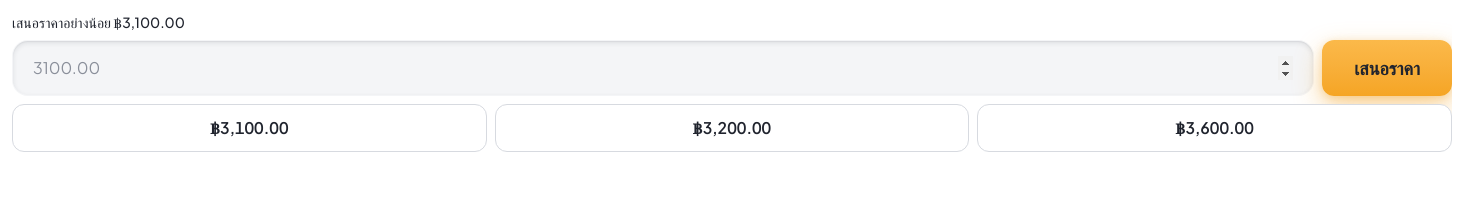
PlaceBidControl › placing a bid › sends the bid and confirms with the amount the API accepted
In the number field labelled "เสนอราคาอย่างน้อย ฿3,100.00": (663, 68) [33,56,1293,80], type "3100"
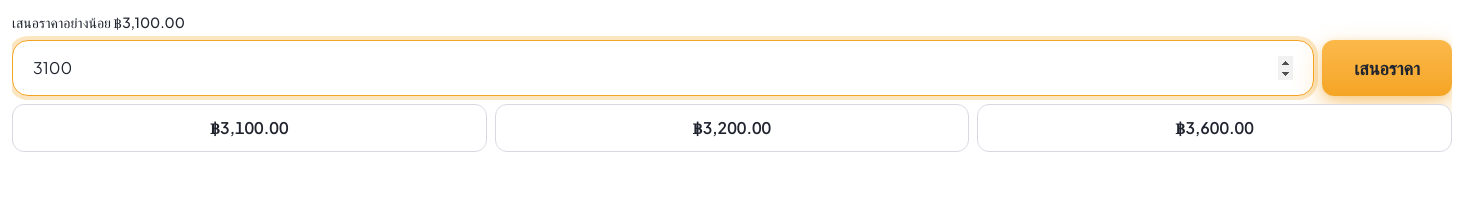
Click the button "เสนอราคา": (1387, 68) [1322,40,1452,96]
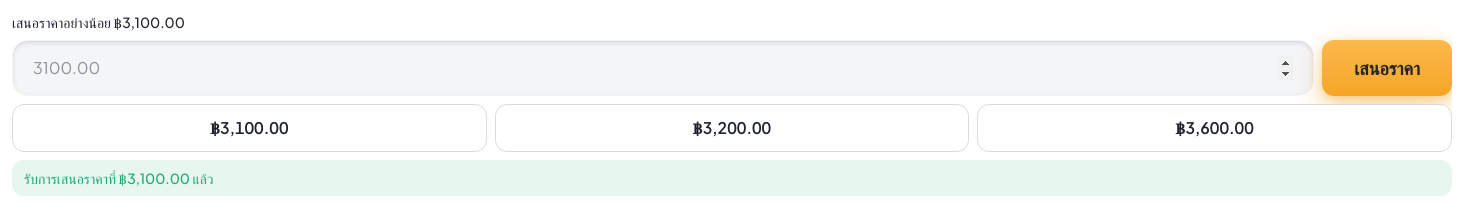
Now the text "รับการเสนอราคาที่ ฿3,100.00 แล้ว" is shown, box [12,160,1452,196]
Now the number field labelled "เสนอราคาอย่างน้อย ฿3,100.00" is not empty, box [33,56,1293,80]
